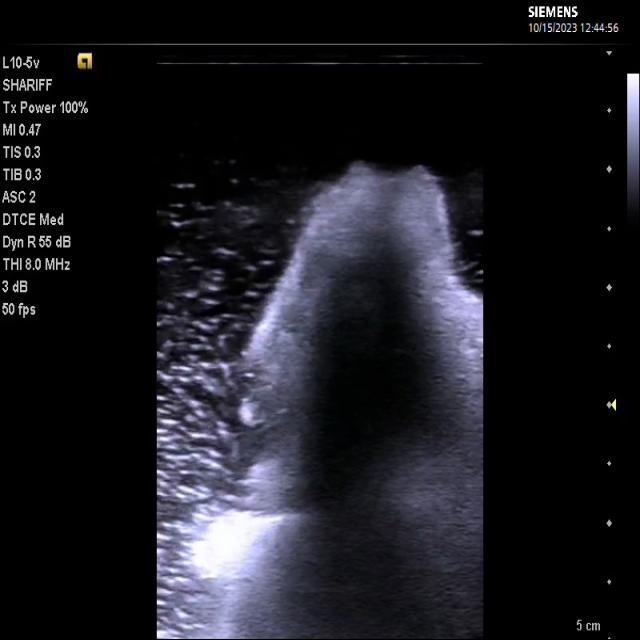tissue: (189, 164, 482, 638)
